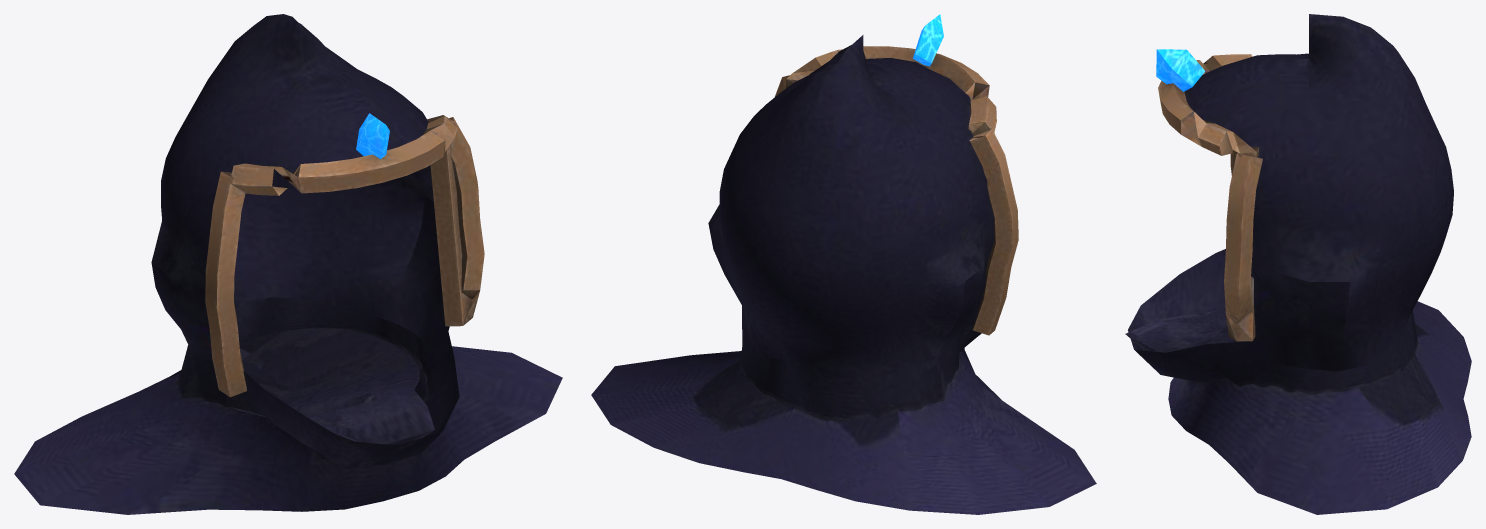
The model's file is Capuz_do_Mago_nivel100.glb.
The picture shows the model from 3 angles, left to right: view 1: azimuth 30°, elevation 25°; view 2: azimuth 150°, elevation 25°; view 3: azimuth 270°, elevation 25°; orthographic projection. The views are drawn at different scales.
Parts seen in each view (by area): view 1: capuz_do_mago_nivel100; view 2: capuz_do_mago_nivel100; view 3: capuz_do_mago_nivel100.
Part boxes in pixels (<box>): capuz_do_mago_nivel100: <box>14,14,562,514</box>; capuz_do_mago_nivel100: <box>591,14,1096,514</box>; capuz_do_mago_nivel100: <box>1125,14,1471,514</box>.
Bounding box in the file's own units: 0.4628 × 0.356 × 0.2919.
Materials: 1 (1 with a texture image).
